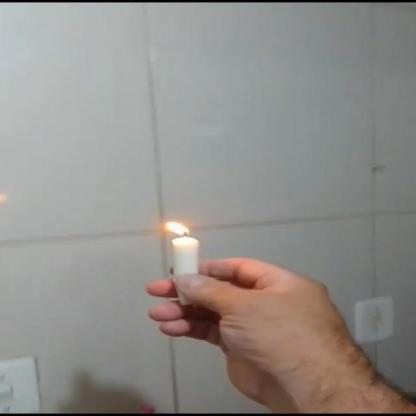fire: (164, 214, 192, 238)
